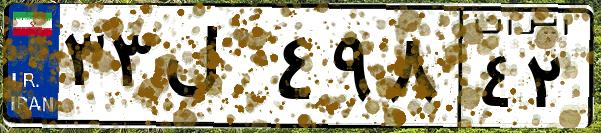2: (525, 38, 570, 115)
3: (57, 26, 110, 100), (110, 28, 158, 98)
4: (270, 28, 330, 110), (475, 38, 525, 113)
8: (385, 28, 445, 110)
9: (330, 28, 385, 110)
ل: (158, 20, 270, 120)
